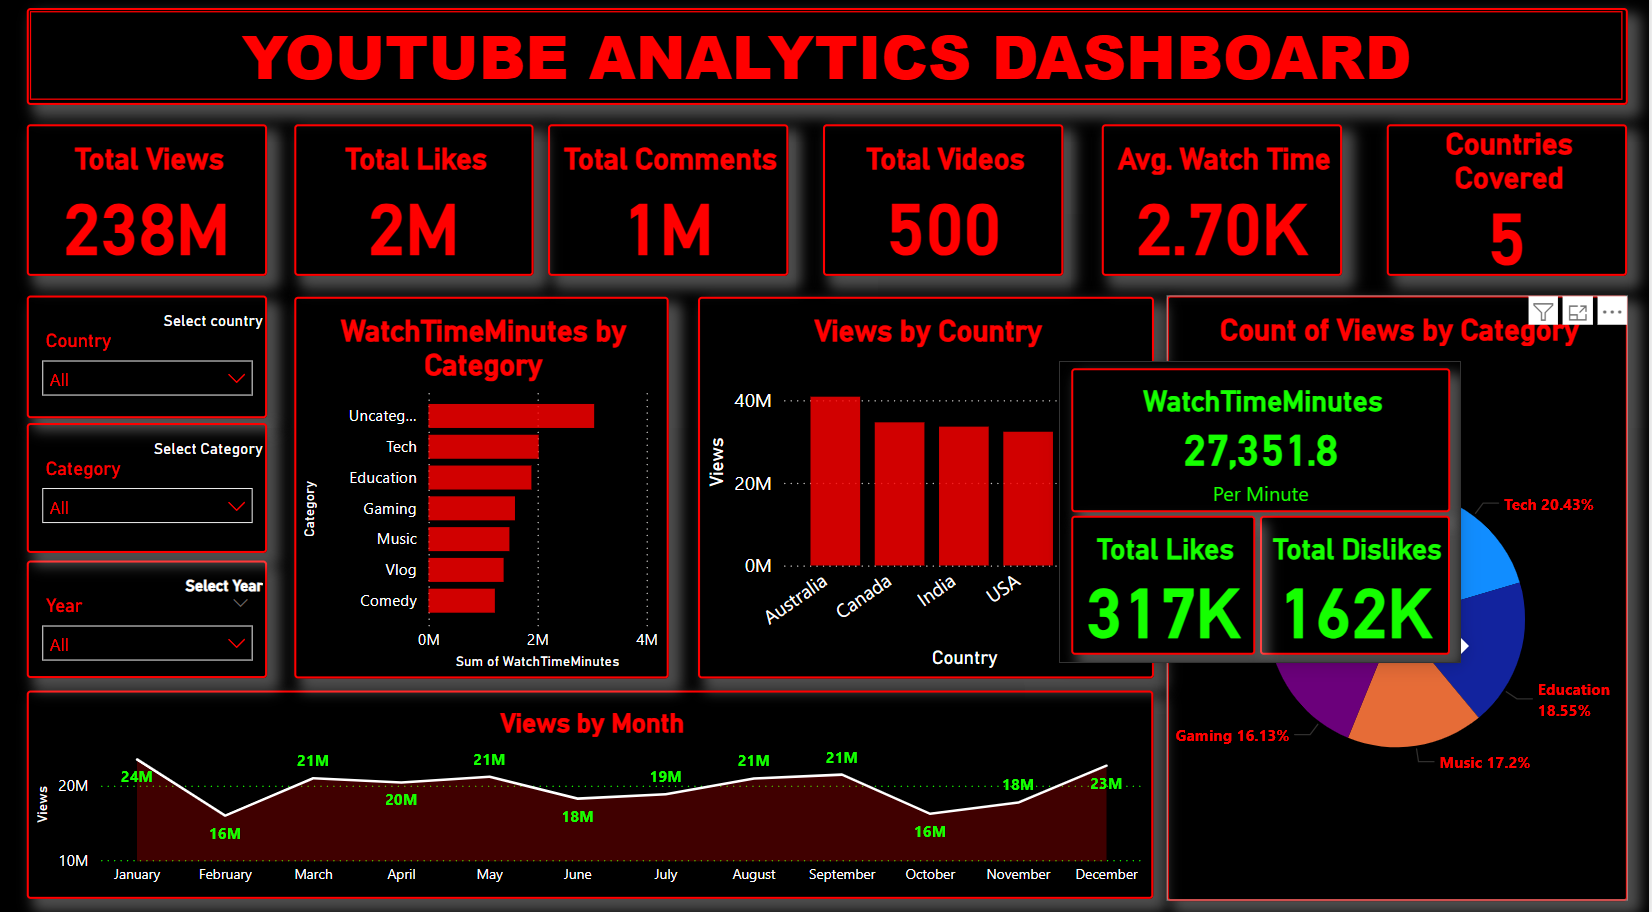

This screenshot's page, from the dashboard's own definition file:
{"tool":"powerbi","page":{"name":"Page 1","canvas":[1280,720],"ordinal":0},"visuals":[{"type":"shape","box":[22.5,11.3,1241.3,74.8],"z":0},{"type":"card","title":"Total Views","fields":{"Values":["Sum(Sheet1.Views)"]},"box":[22.5,101.5,186.5,117.9],"z":1000},{"type":"card","title":"Total Likes","fields":{"Values":["Sum(Sheet1.Likes)"]},"box":[229.6,101.5,185.5,117.9],"z":2000},{"type":"card","title":"Total Comments","fields":{"Values":["Sum(Sheet1.Comments)"]},"box":[426.4,101.5,186.5,117.9],"z":3000},{"type":"card","title":"Total Videos","fields":{"Values":["CountNonNull(Sheet1.VideoID)"]},"box":[639.6,101.5,186.5,117.9],"z":4000},{"type":"card","title":"Avg. Watch Time","fields":{"Values":["Sum(Sheet1.AvgViewDuration)"]},"box":[855.9,101.5,186.5,117.9],"z":5000},{"type":"card","title":"Countries Covered","fields":{"Values":["Count(Sheet1.Country)"]},"box":[1077.3,101.5,186.5,117.9],"z":6000},{"type":"columnChart","title":"Views by Country","fields":{"Category":["Sheet1.Country"],"Y":["Sum(Sheet1.Views)"]},"box":[542.5,235.2,353.5,295.8],"z":7000},{"type":"lineChart","fields":{"Y":["Sum(Sheet1.Views)"],"Category":["Youtube Data.Month Name"]},"box":[22.5,541.2,873.3,161.9],"z":8000},{"type":"pieChart","fields":{"Category":["Sheet1.Category"],"Y":["CountNonNull(Sheet1.Views)"]},"box":[906.1,234.7,357.7,469.4],"z":9000},{"type":"slicer","title":"Select country","fields":{"Values":["Sheet1.Country"]},"box":[22.5,234.7,186.5,95.3],"z":10000},{"type":"slicer","title":"Select Year","fields":{"Values":["Sheet1.UploadDate Hierarchy.Year"]},"box":[22.5,439.7,186.5,91.2],"z":11000},{"type":"slicer","title":"Select Category","fields":{"Values":["Sheet1.Category"]},"box":[22.5,333.1,186.5,100.4],"z":12000},{"type":"clusteredBarChart","title":"WatchTimeMinutes by Category","fields":{"Y":["Sum(Sheet1.WatchTimeMinutes)"],"Category":["Sheet1.Category"]},"box":[229.6,235.7,290.1,296.2],"z":13000}]}

Visuals, with their boxes in screenshot pixels (x1, y1, x2, y2), scaled from the page's 1280x720 canvas onto the 1652x912 screenshot:
shape: [left=29, top=14, right=1631, bottom=109]
"Total Views" card: [left=29, top=129, right=270, bottom=278]
"Total Likes" card: [left=296, top=129, right=536, bottom=278]
"Total Comments" card: [left=550, top=129, right=791, bottom=278]
"Total Videos" card: [left=825, top=129, right=1066, bottom=278]
"Avg. Watch Time" card: [left=1105, top=129, right=1345, bottom=278]
"Countries Covered" card: [left=1390, top=129, right=1631, bottom=278]
"Views by Country" columnChart: [left=700, top=298, right=1156, bottom=673]
lineChart - Sum(Sheet1.Views) x Youtube Data.Month Name: [left=29, top=686, right=1156, bottom=891]
pieChart - Sheet1.Category x CountNonNull(Sheet1.Views): [left=1169, top=297, right=1631, bottom=892]
"Select country" slicer: [left=29, top=297, right=270, bottom=418]
"Select Year" slicer: [left=29, top=557, right=270, bottom=672]
"Select Category" slicer: [left=29, top=422, right=270, bottom=549]
"WatchTimeMinutes by Category" clusteredBarChart: [left=296, top=299, right=671, bottom=674]
